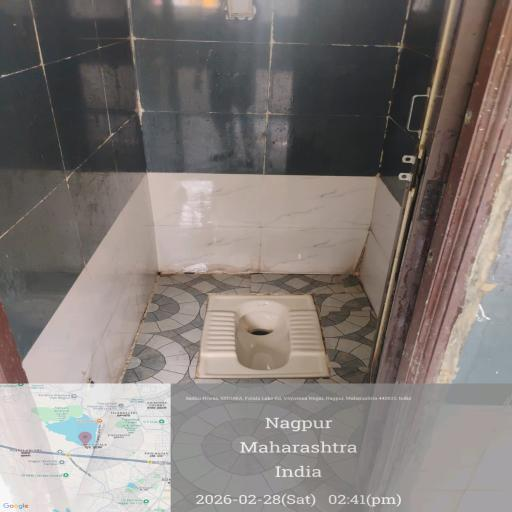clean_floor: (24, 17, 372, 274), (34, 289, 190, 512), (208, 386, 394, 512)
clean_indian: (191, 293, 334, 379)
